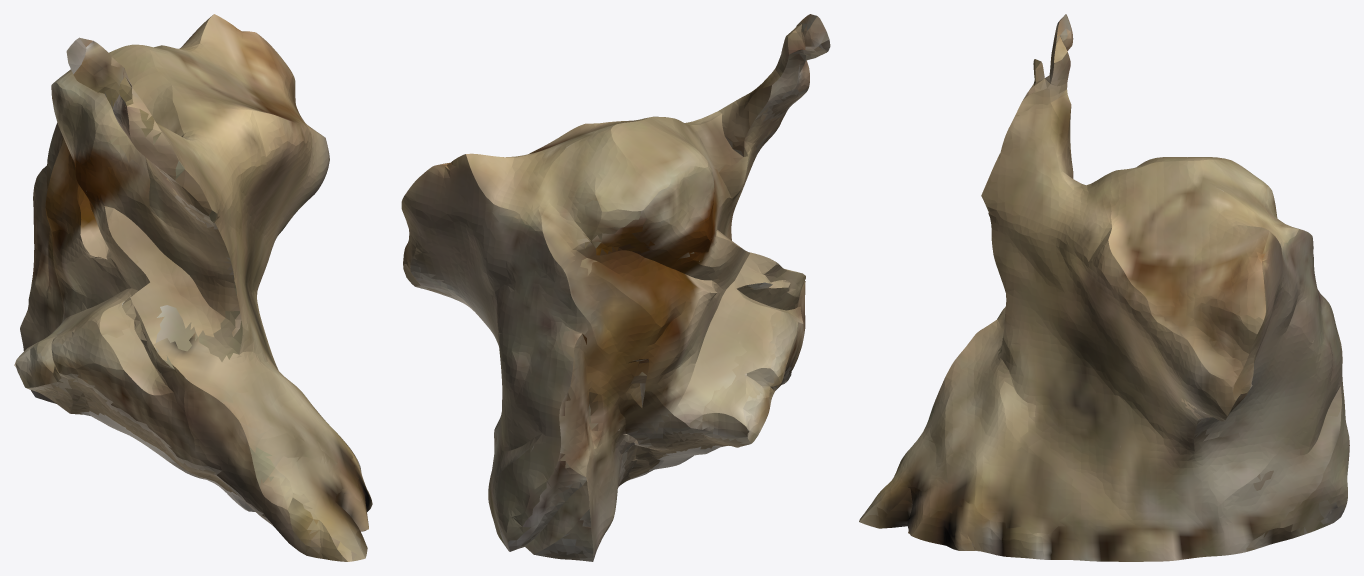
File: maxilla.obj
The picture shows the model from 3 angles, left to right: view 1: azimuth 30°, elevation 25°; view 2: azimuth 150°, elevation 25°; view 3: azimuth 270°, elevation 25°; orthographic projection. The views are drawn at different scales.
Bounding box in the file's own units: 27.47 × 36.77 × 37.53.
1 material, 1 textured.
